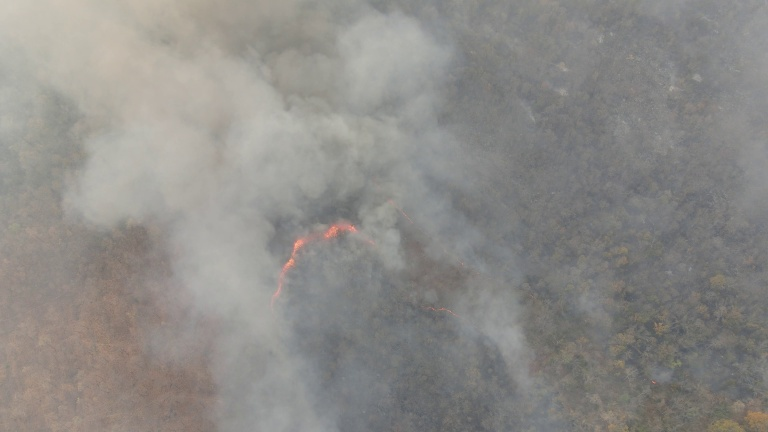fire: (270, 218, 386, 307), (418, 301, 470, 330)
smoke: (51, 14, 342, 414), (303, 20, 484, 260)
